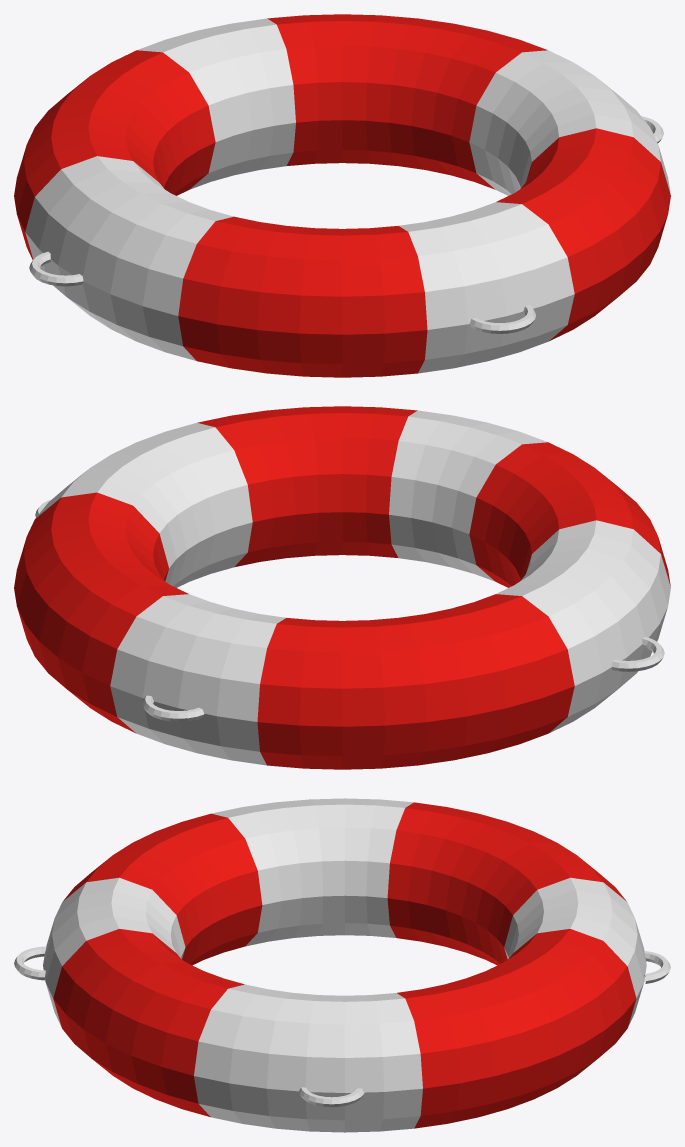
Rendered from floaty.glb.
The picture shows the model from 3 angles, top to bottom: view 1: azimuth 30°, elevation 25°; view 2: azimuth 150°, elevation 25°; view 3: azimuth 270°, elevation 25°; orthographic projection. The views are drawn at different scales.
Parts seen in each view (by area): view 1: Torus.004; view 2: Torus.004; view 3: Torus.004.
Part boxes in pixels (<box>): Torus.004: <box>14,14,670,377</box>; Torus.004: <box>14,406,670,769</box>; Torus.004: <box>14,798,670,1132</box>.
Bounding box in the file's own units: 3.95 × 0.8216 × 3.93.
